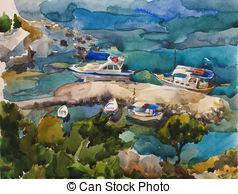boat: (147, 59, 215, 94), (68, 56, 134, 82), (127, 101, 163, 124), (103, 96, 119, 116), (57, 102, 69, 120)
